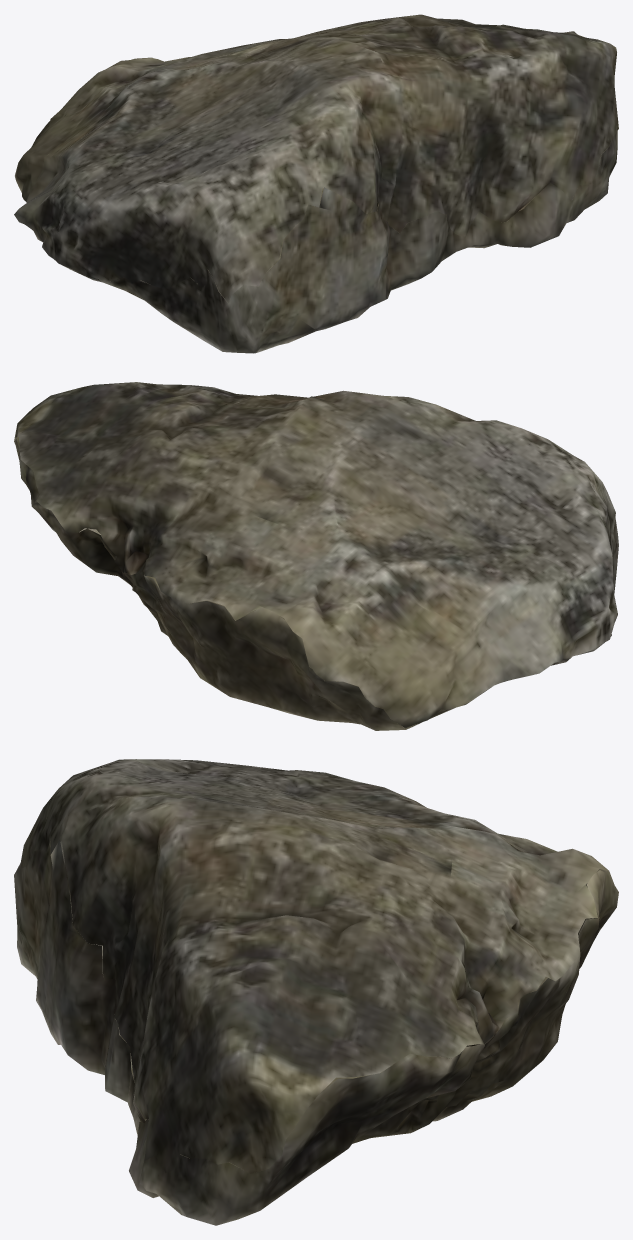
File: rock_moss_set_02_2.glb
The picture shows the model from 3 angles, top to bottom: view 1: azimuth 30°, elevation 25°; view 2: azimuth 150°, elevation 25°; view 3: azimuth 270°, elevation 25°; orthographic projection. The views are drawn at different scales.
Visible parts, largest first — view 1: rock_moss_set_02_rock10; view 2: rock_moss_set_02_rock10; view 3: rock_moss_set_02_rock10.
Boxes of the visible parts, left/top/right/bottom form: rock_moss_set_02_rock10: left=14, top=14, right=618, bottom=353; rock_moss_set_02_rock10: left=14, top=382, right=618, bottom=730; rock_moss_set_02_rock10: left=14, top=759, right=618, bottom=1225.
Size of the model in its own units: 2.2 by 0.7701 by 1.55.
Materials: 1 (1 with a texture image).
